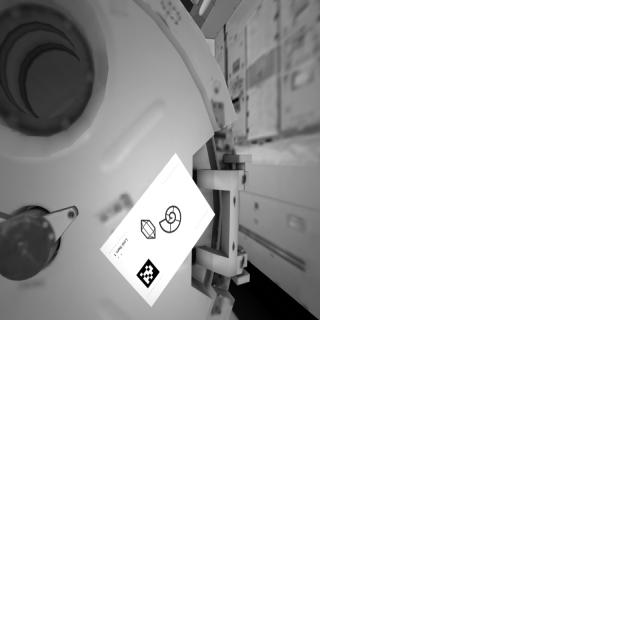crystal: (138, 216, 158, 242)
fossil: (159, 203, 185, 236)
